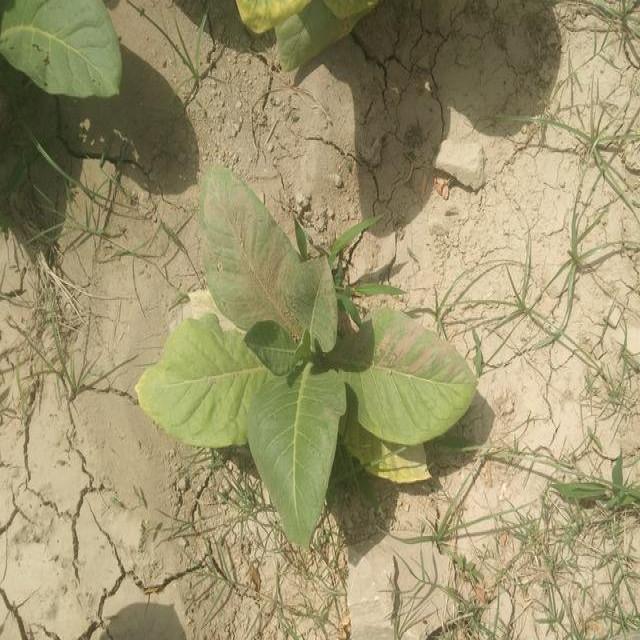crop: (136, 172, 476, 532), (0, 0, 125, 94)
